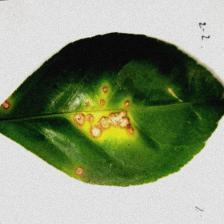canker: (15, 66, 154, 150)
